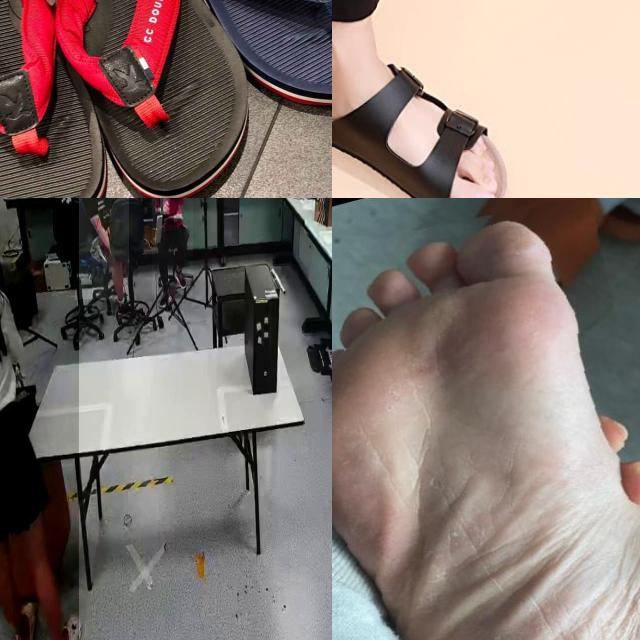Barefoots: (332, 198, 640, 640)
Sandals: (0, 0, 276, 198), (332, 14, 512, 198), (108, 0, 332, 137)
hand_noglove: (160, 198, 170, 215), (162, 214, 175, 223)
person: (0, 198, 79, 640), (74, 198, 129, 300), (152, 198, 193, 295)
shoes: (158, 284, 174, 314), (173, 265, 188, 291)
